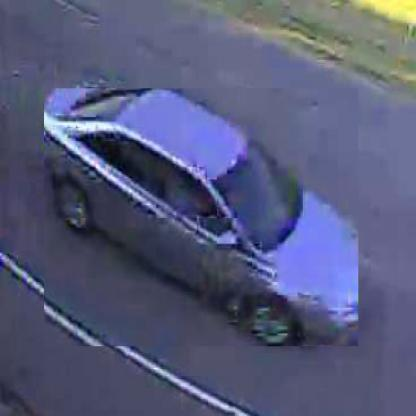car: (45, 89, 361, 349)
